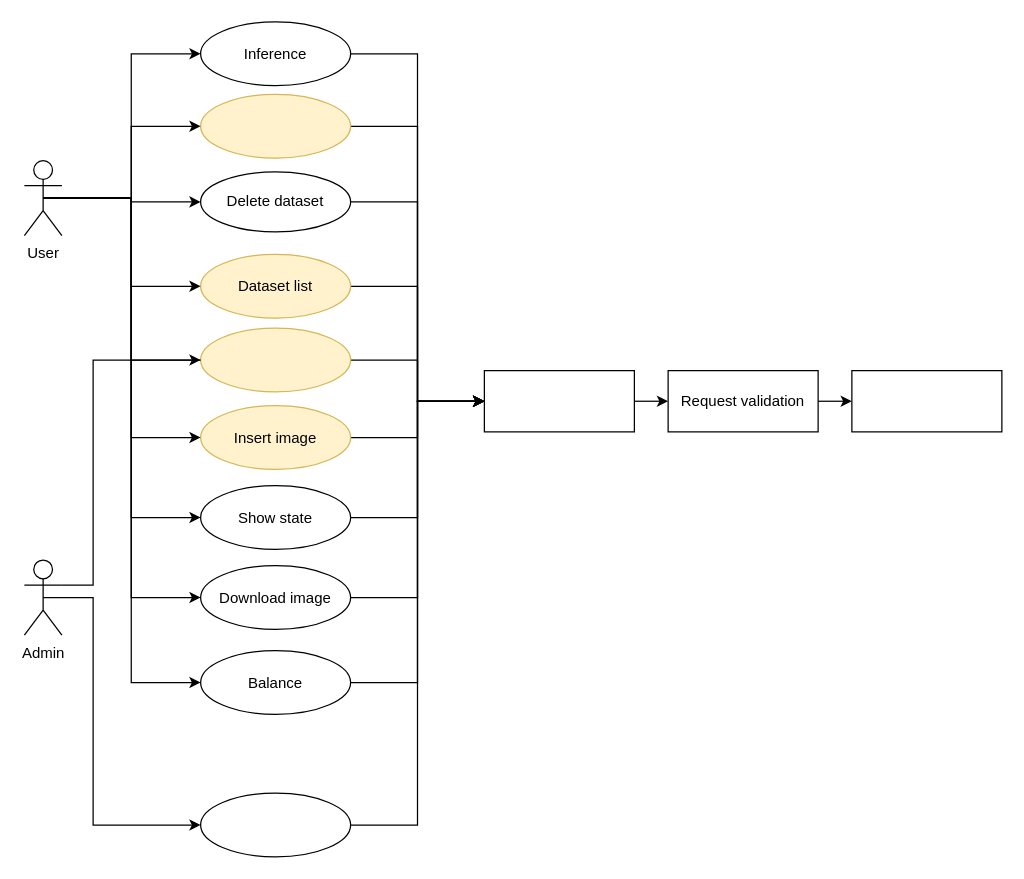
Image size: 1024x879. Some labels were removed from this diagram. Each missing label, with the box of its shape:
Create dataset: (199, 93, 351, 158)
Dataset update: (199, 327, 351, 392)
JWT token: (483, 369, 634, 432)
Operation: (851, 369, 1002, 432)
Refill credit: (199, 792, 351, 857)
